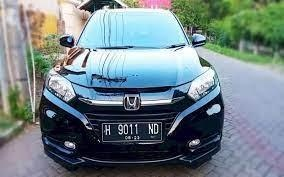plate: (102, 121, 162, 141)
